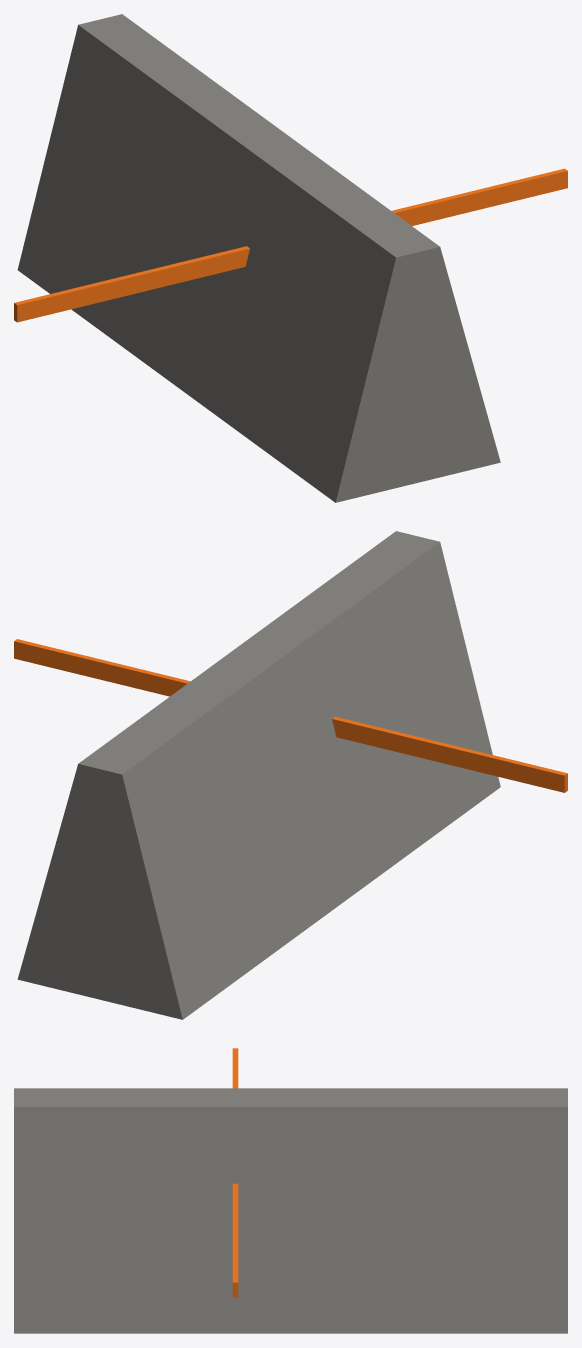
The model's file is p_concrete_barrier.glb.
3 renders of one model, top to bottom at view 1: azimuth 30°, elevation 25°; view 2: azimuth 150°, elevation 25°; view 3: azimuth 270°, elevation 25°, orthographic. The views are drawn at different scales.
Visible parts, largest first — view 1: concrete_barrier; view 2: concrete_barrier; view 3: concrete_barrier.
Part boxes in pixels (bbox=[...]): concrete_barrier: bbox=[14, 14, 567, 502]; concrete_barrier: bbox=[14, 531, 567, 1019]; concrete_barrier: bbox=[14, 1048, 567, 1333].
Size of the model in its own units: 2 by 0.8 by 2.
